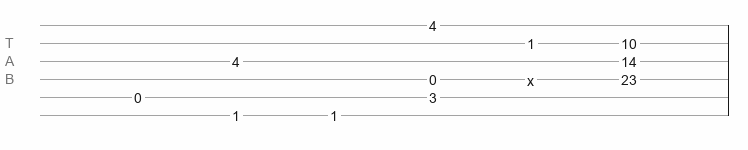0: (134, 90, 142, 100), (429, 72, 437, 82)
1: (232, 108, 240, 118), (330, 108, 338, 118), (527, 36, 535, 46)
10: (621, 36, 637, 46)
14: (621, 54, 637, 64)
23: (621, 72, 637, 82)
3: (429, 90, 437, 100)
4: (232, 54, 240, 64), (429, 18, 437, 28)
x: (527, 73, 534, 81)
